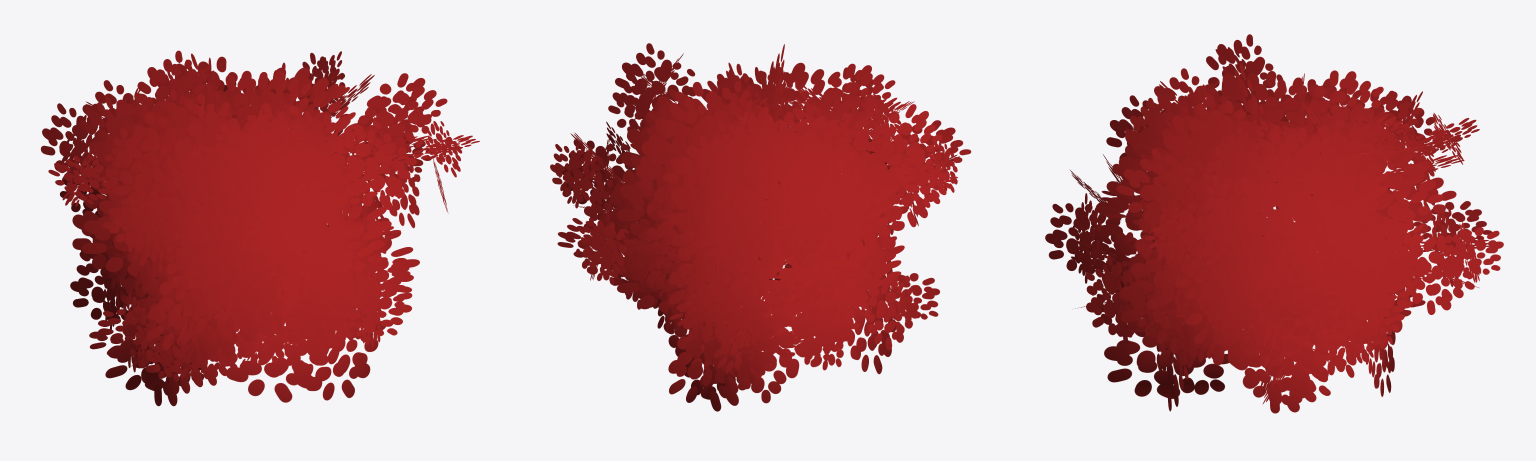
Rendered from bush-transformed.glb.
The picture shows the model from 3 angles, left to right: view 1: azimuth 30°, elevation 25°; view 2: azimuth 150°, elevation 25°; view 3: azimuth 270°, elevation 25°; orthographic projection. The views are drawn at different scales.
Parts seen in each view (by area): view 1: Bush_Common; view 2: Bush_Common; view 3: Bush_Common.
Boxes of the visible parts, x1,y1,x2,y2 form: Bush_Common: (40,50,479,406); Bush_Common: (550,43,971,411); Bush_Common: (1045,34,1503,413).
Size of the model in its own units: 1.91 by 1.58 by 1.97.
Materials: 1 (1 with a texture image).
